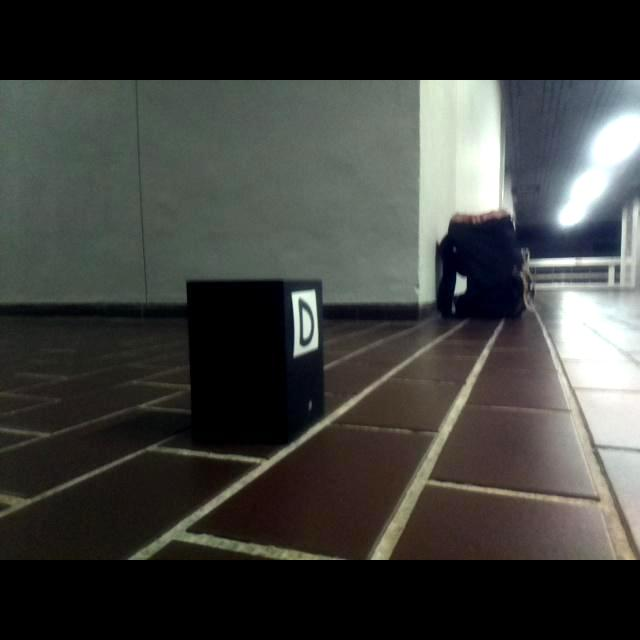D: (299, 299, 315, 347)
